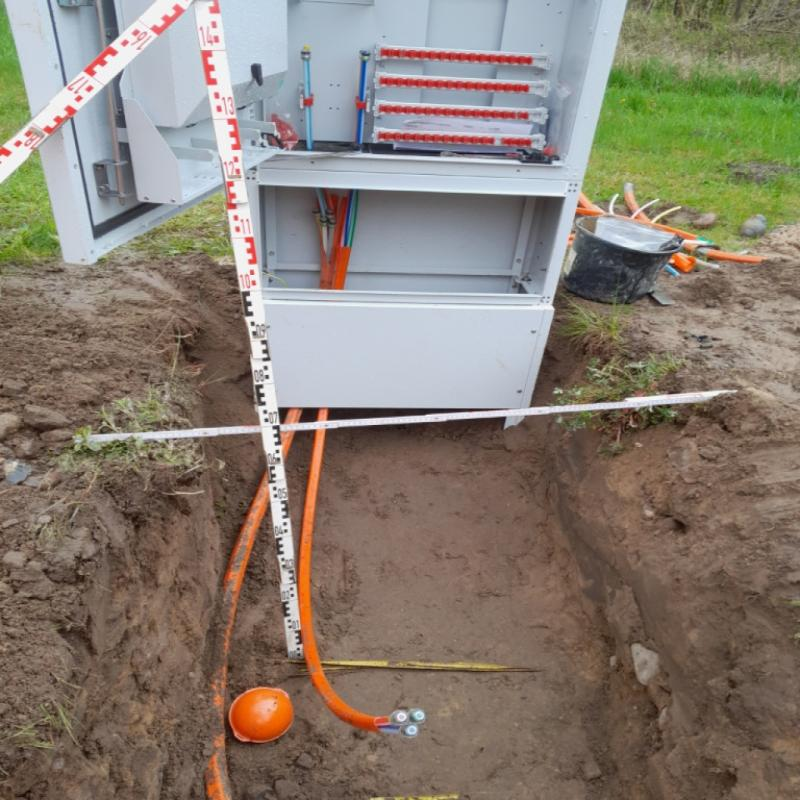Kugelmarker: (229, 687, 293, 743)
NT-Gehause: (7, 2, 627, 414)
Orang-Speednetrohrchen: (298, 410, 426, 737), (202, 409, 305, 775)
